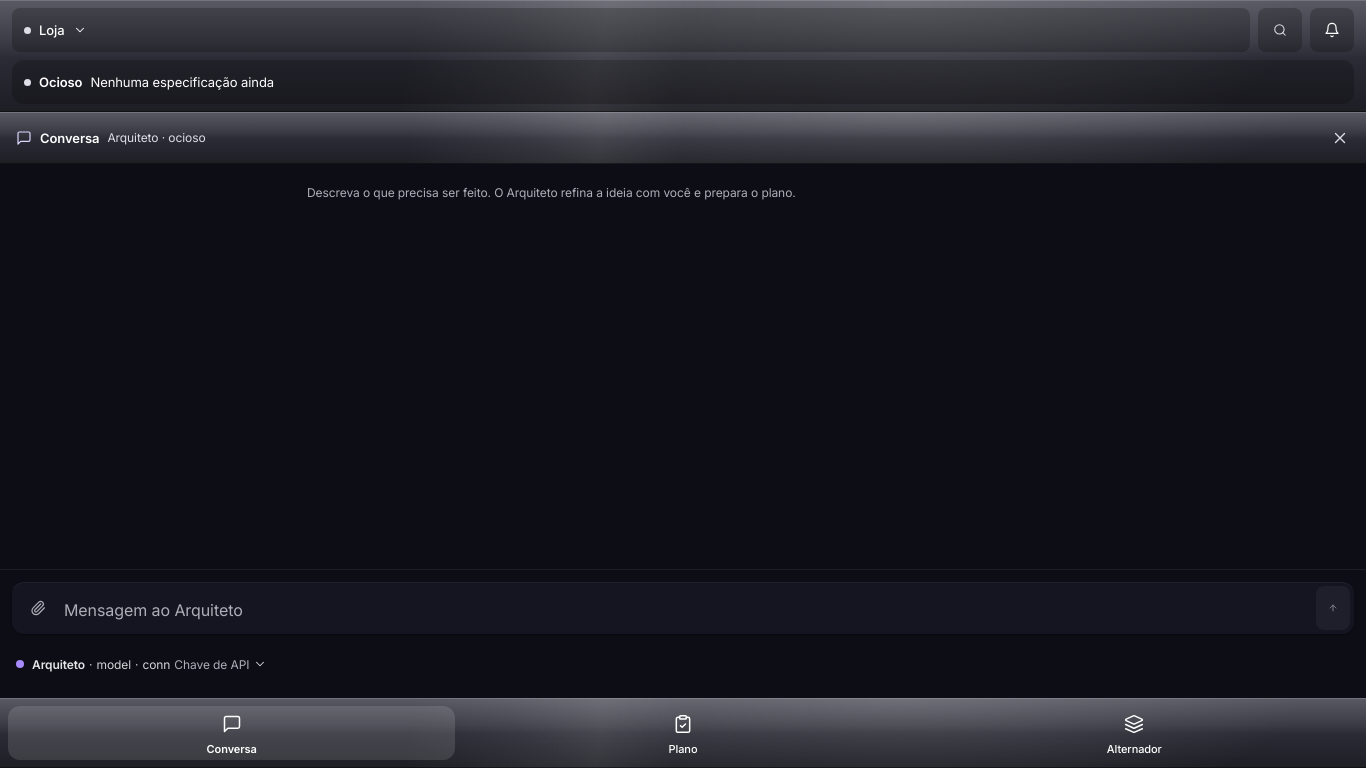
celular › o Nanty está no Alternador, com o avatar e o selo, e abre em tela cheia
This screenshot has width=1366, height=768.
Click the button "Alternador" at (1134, 733), box [911,706,1358,760]
(page scrolled)
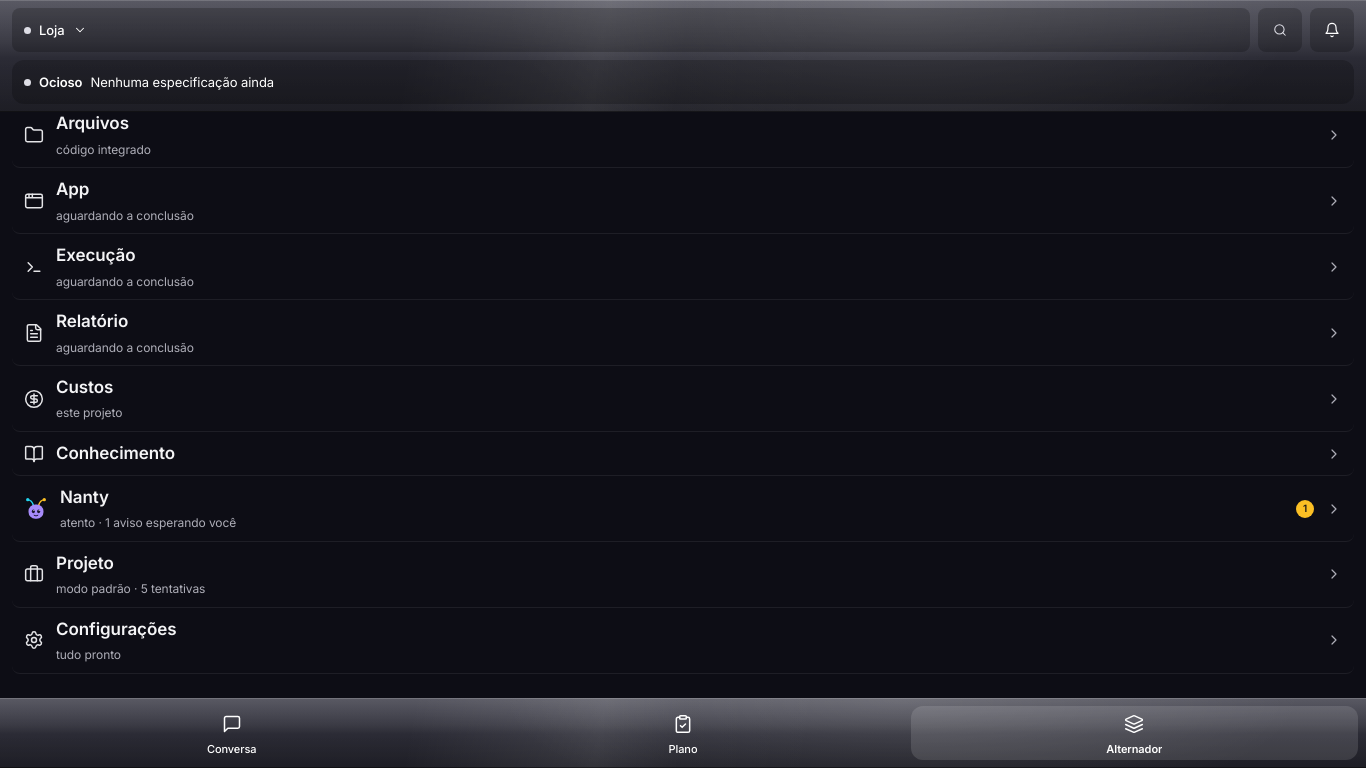
Expected: the text "1" is shown, [1296,500,1314,518]
Click the button with class "nd-switcher-item" that starts with "Nanty" at (85, 497), box [12,476,1354,542]
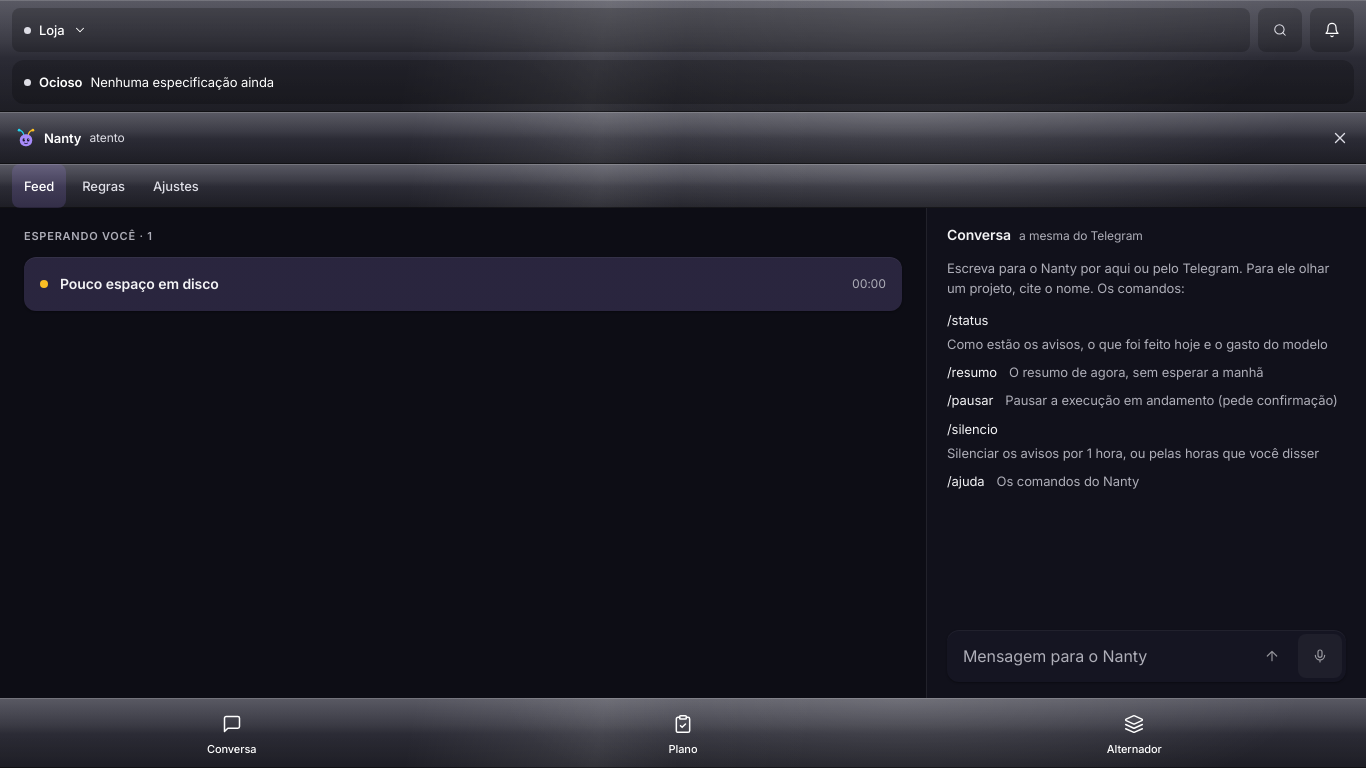
Expected: the element showing "Feed Regras Ajustes" is shown, [12,164,211,208]
